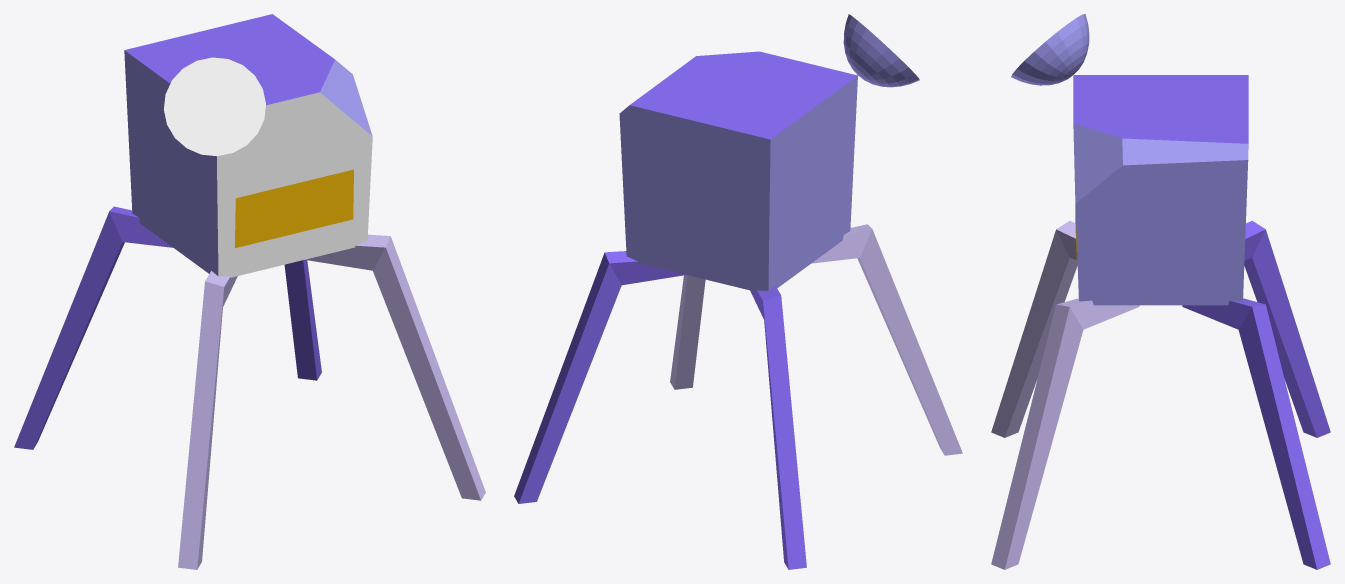
The model's file is Building_051_b.fbx.
3 renders of one model, left to right at view 1: azimuth 30°, elevation 25°; view 2: azimuth 150°, elevation 25°; view 3: azimuth 270°, elevation 25°, orthographic. The views are drawn at different scales.
Visible parts, largest first — view 1: Building_051_b_h; view 2: Building_051_b_h; view 3: Building_051_b_h.
Boxes of the visible parts, box(x1,y1,x2,y2) form: Building_051_b_h: box(14, 14, 485, 569); Building_051_b_h: box(514, 14, 962, 569); Building_051_b_h: box(991, 14, 1330, 569).
Size of the model in its own units: 7.89 by 11.38 by 7.91.
